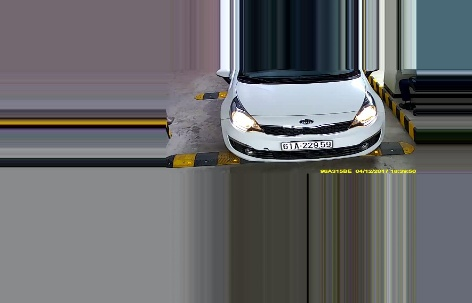plate: (277, 139, 337, 151)
